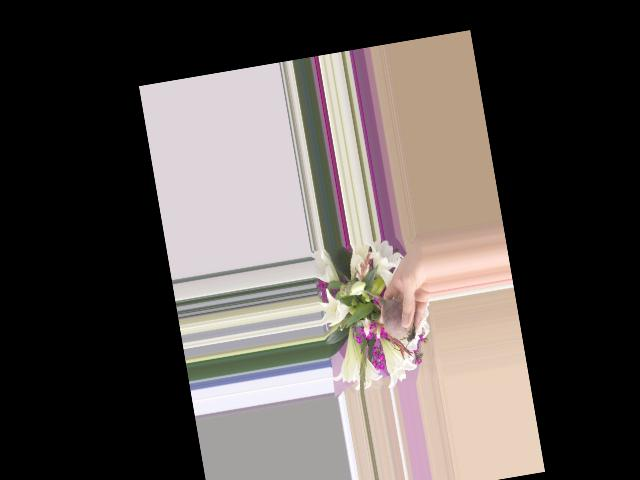beet: (355, 282, 419, 357)
